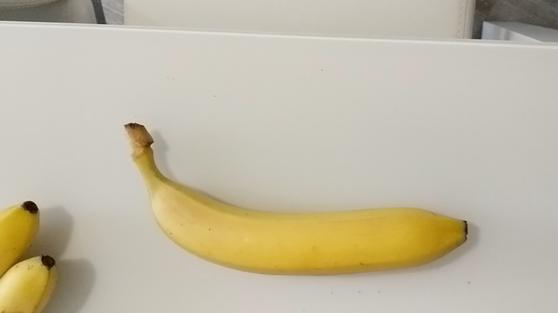banana: (124, 117, 475, 283)
